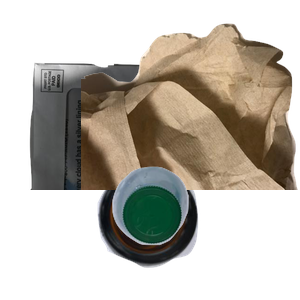glass: (95, 164, 286, 300)
paper: (27, 60, 223, 240)
plastic: (110, 164, 300, 300)
trash: (81, 21, 300, 201)
